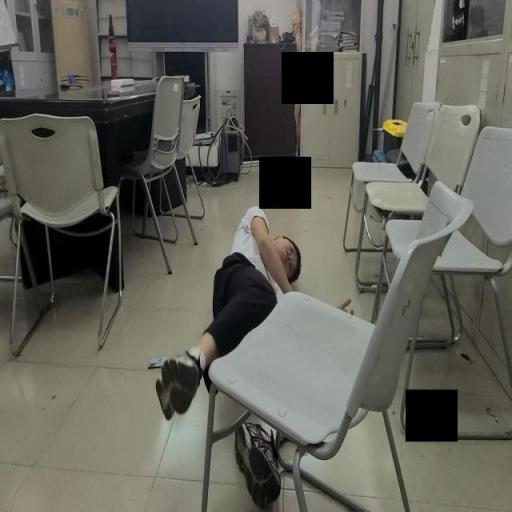Fall: (154, 201, 304, 508)
